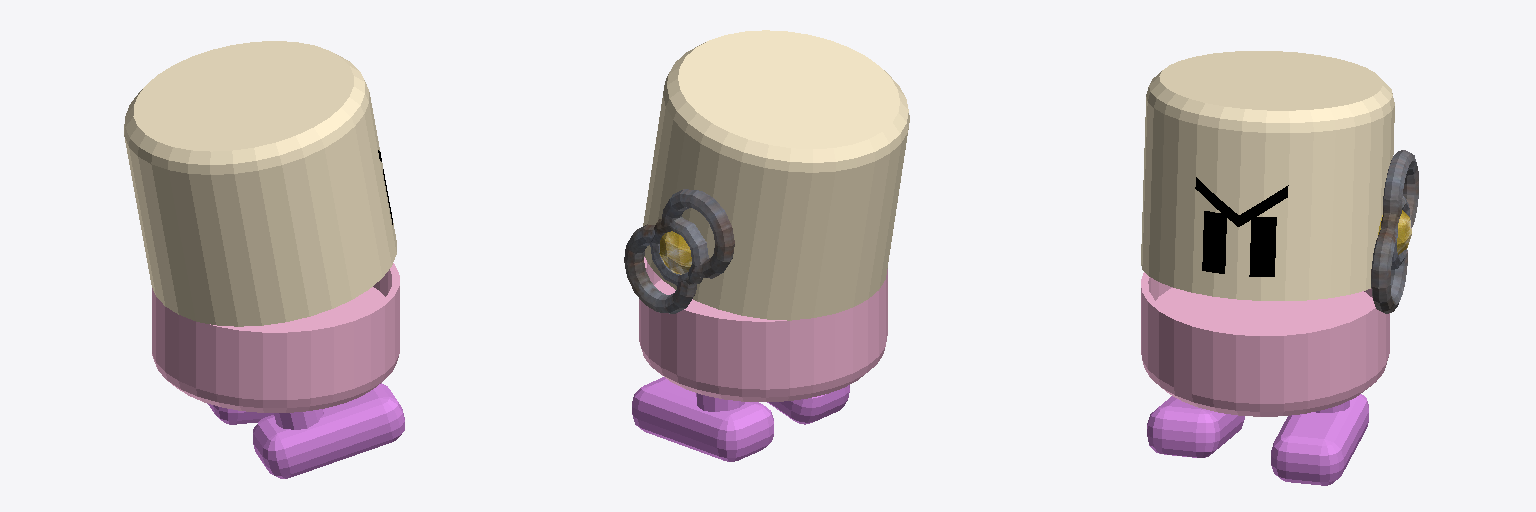
The picture shows the model from 3 angles: view 1: azimuth 30°, elevation 25°; view 2: azimuth 150°, elevation 25°; view 3: azimuth 270°, elevation 25°; orthographic projection.
Visible parts, largest first — view 1: Head, Jaw, RightLeg, LeftLeg; view 2: Head, Jaw, WindupKey, LeftLeg, RightLeg; view 3: Head, Jaw, LeftLeg, WindupKey, RightLeg.
Boxes of the visible parts, <box> form: Head: <box>124,41,396,326</box>; Jaw: <box>152,263,399,412</box>; RightLeg: <box>253,383,404,478</box>; LeftLeg: <box>207,403,273,424</box>; Head: <box>643,30,909,320</box>; Jaw: <box>639,257,887,401</box>; WindupKey: <box>624,189,734,313</box>; LeftLeg: <box>632,377,773,461</box>; RightLeg: <box>767,385,849,424</box>; Head: <box>1141,51,1394,300</box>; Jaw: <box>1141,272,1389,416</box>; LeftLeg: <box>1271,394,1368,485</box>; WindupKey: <box>1371,150,1418,313</box>; RightLeg: <box>1147,396,1244,457</box>.
Bounding box in the file's own units: 111 × 163 × 112.
Materials: 6 (2 with a texture image).